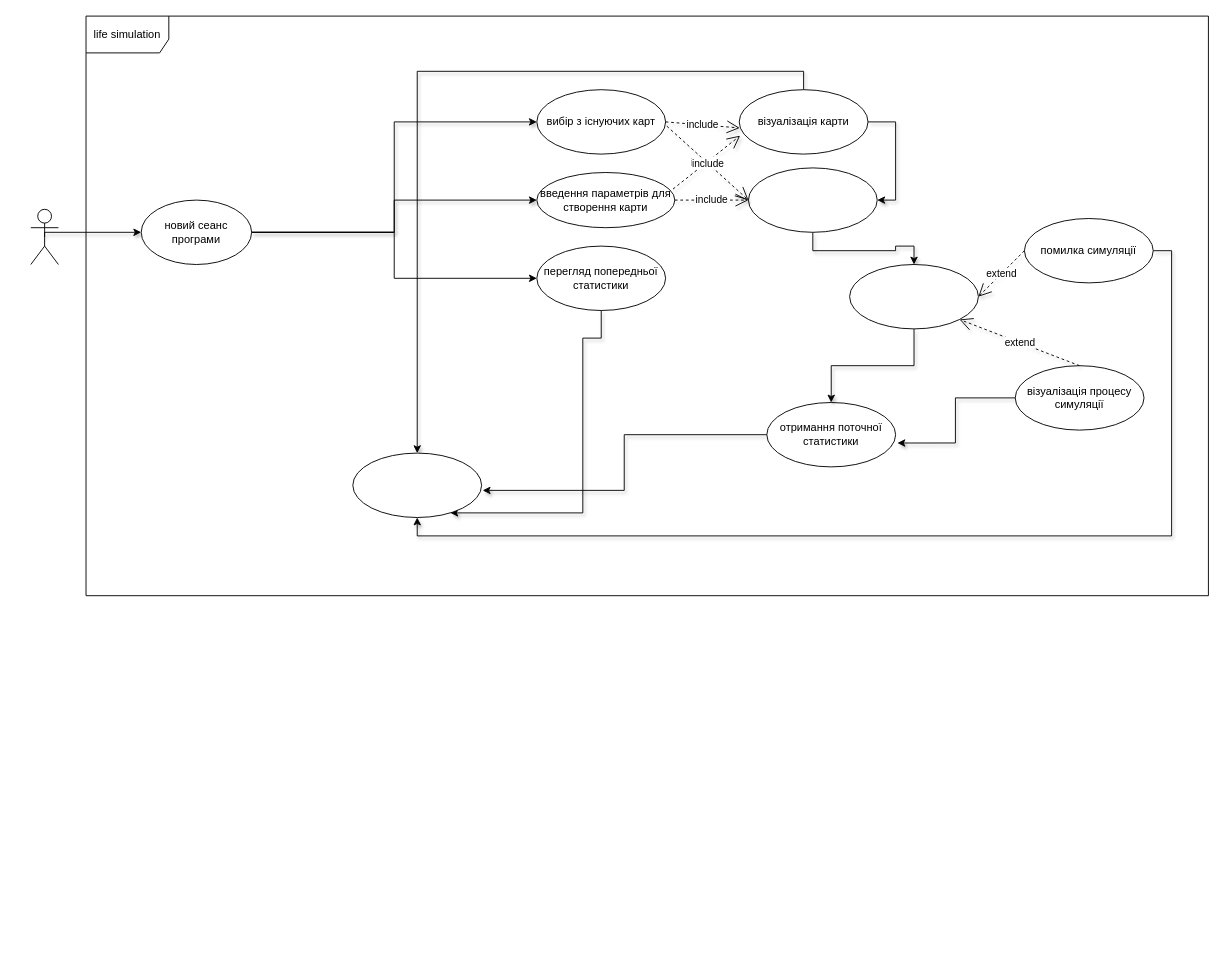
Image size: 1225x966. Some labels were removed from this diagram. The centre of each missing label's shape, as x and y in pixels:
"введення параметрів для симуляції" belongs at (812,199).
"завершення сеансу" belongs at (417,485).
"запуск симуляції" belongs at (913,296).
"користувач" belongs at (44,236).
